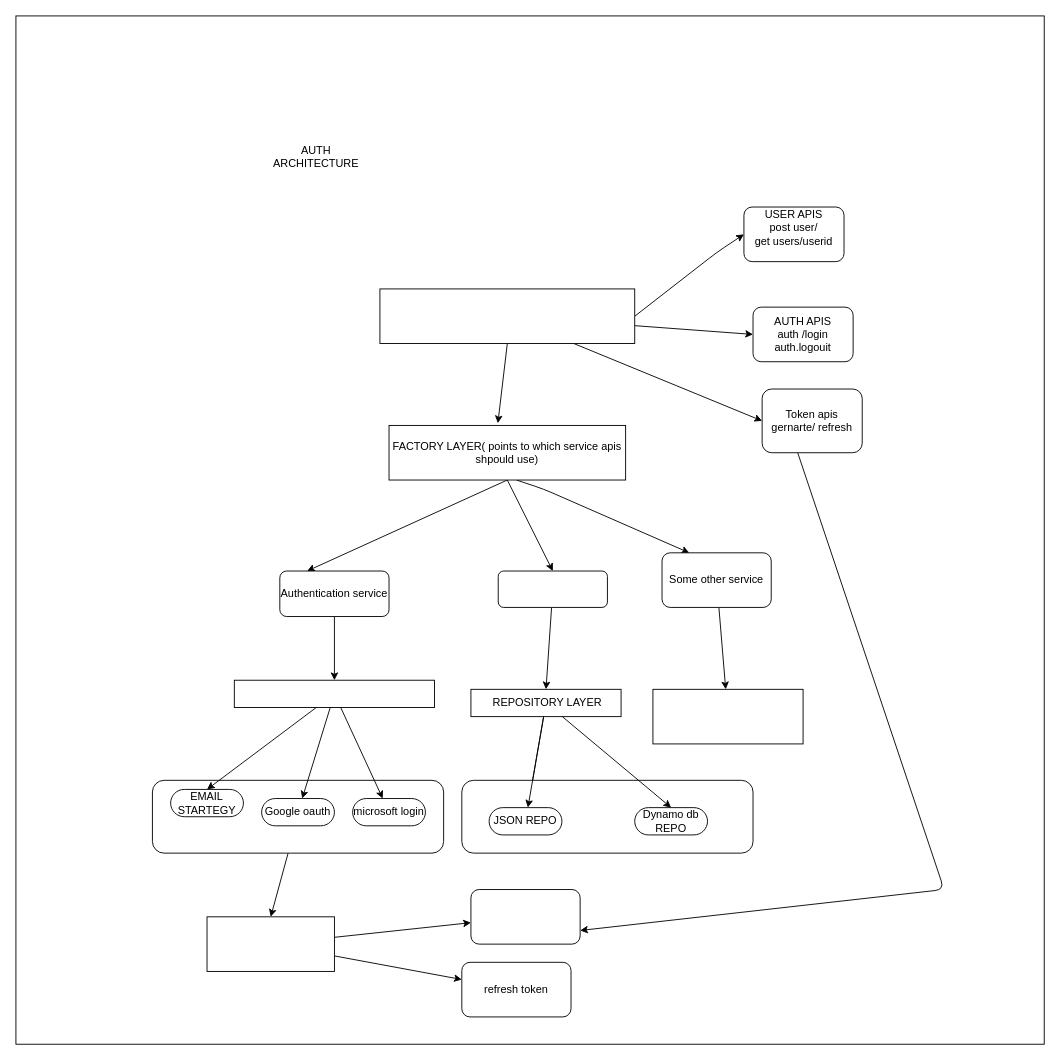
The diagram is 1060 pixels wide and 1060 high, and some of its shapes have lost their labels. The centre of each missing label's shape, as x and y in pixels:
"API LAYER (all apis)" goes at (507,316).
"Genrate token" goes at (525,916).
"SOME OTHER LAYER" goes at (727,716).
"STRATEGY LYER" goes at (334,693).
"TOKEN SERVBICE LAYER" goes at (270,943).
"User service" goes at (552,588).
